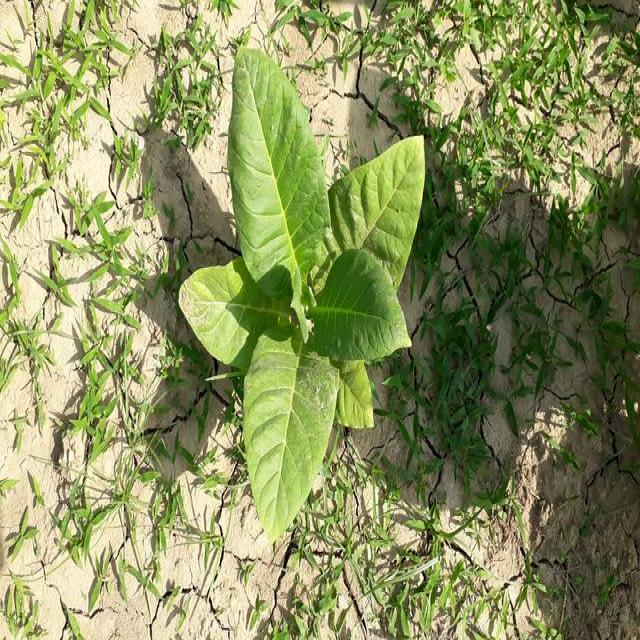crop: (178, 56, 426, 542)
